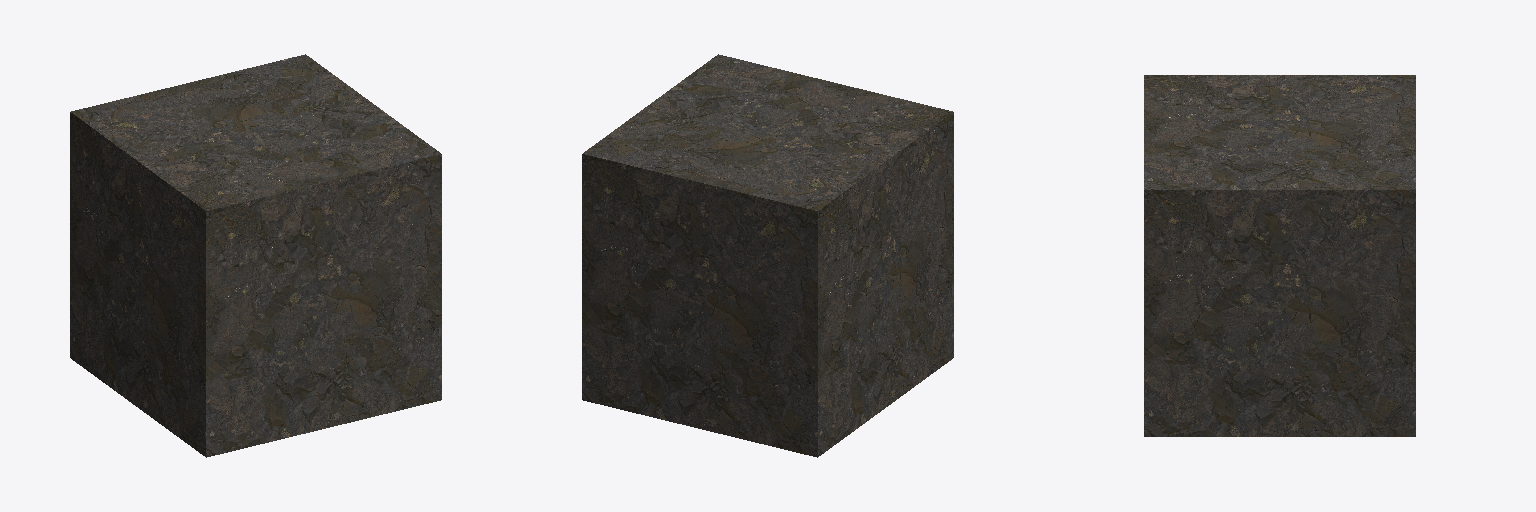
The picture shows the model from 3 angles: view 1: azimuth 30°, elevation 25°; view 2: azimuth 150°, elevation 25°; view 3: azimuth 270°, elevation 25°; orthographic projection.
Parts seen in each view (by area): view 1: Cube; view 2: Cube; view 3: Cube.
Boxes of the visible parts, x1=… form: Cube: x1=70, y1=54, x2=441, y2=457; Cube: x1=582, y1=54, x2=953, y2=457; Cube: x1=1144, y1=75, x2=1415, y2=436.
Size of the model in its own units: 2 by 2 by 2.
Materials: 1 (1 with a texture image).